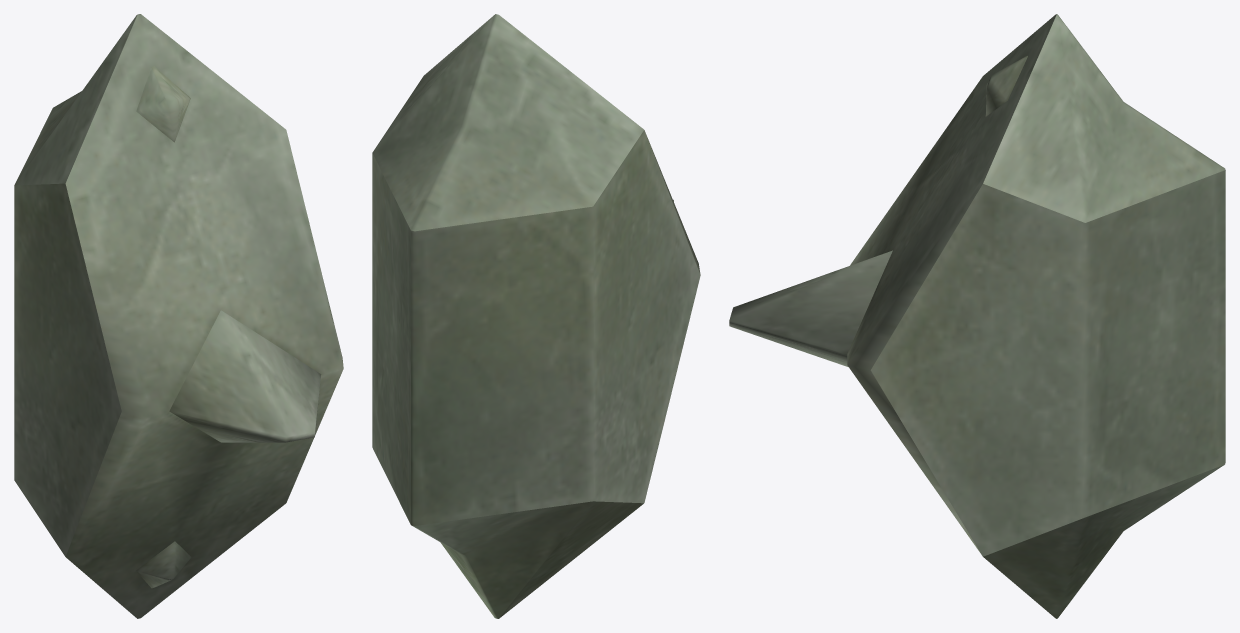
Rendered from Ruins_Trim_Cap_2M_B.fbx.
3 renders of one model, left to right at view 1: azimuth 30°, elevation 25°; view 2: azimuth 150°, elevation 25°; view 3: azimuth 270°, elevation 25°, orthographic.
Visible parts, largest first — view 1: Ruins_Trim_Cap_2M_B; view 2: Ruins_Trim_Cap_2M_B; view 3: Ruins_Trim_Cap_2M_B.
Part boxes in pixels (x1,y1,x2,y2): Ruins_Trim_Cap_2M_B: (14, 14, 343, 618); Ruins_Trim_Cap_2M_B: (372, 14, 700, 618); Ruins_Trim_Cap_2M_B: (729, 14, 1225, 618).
Size of the model in its own units: 196 by 512 by 382.
